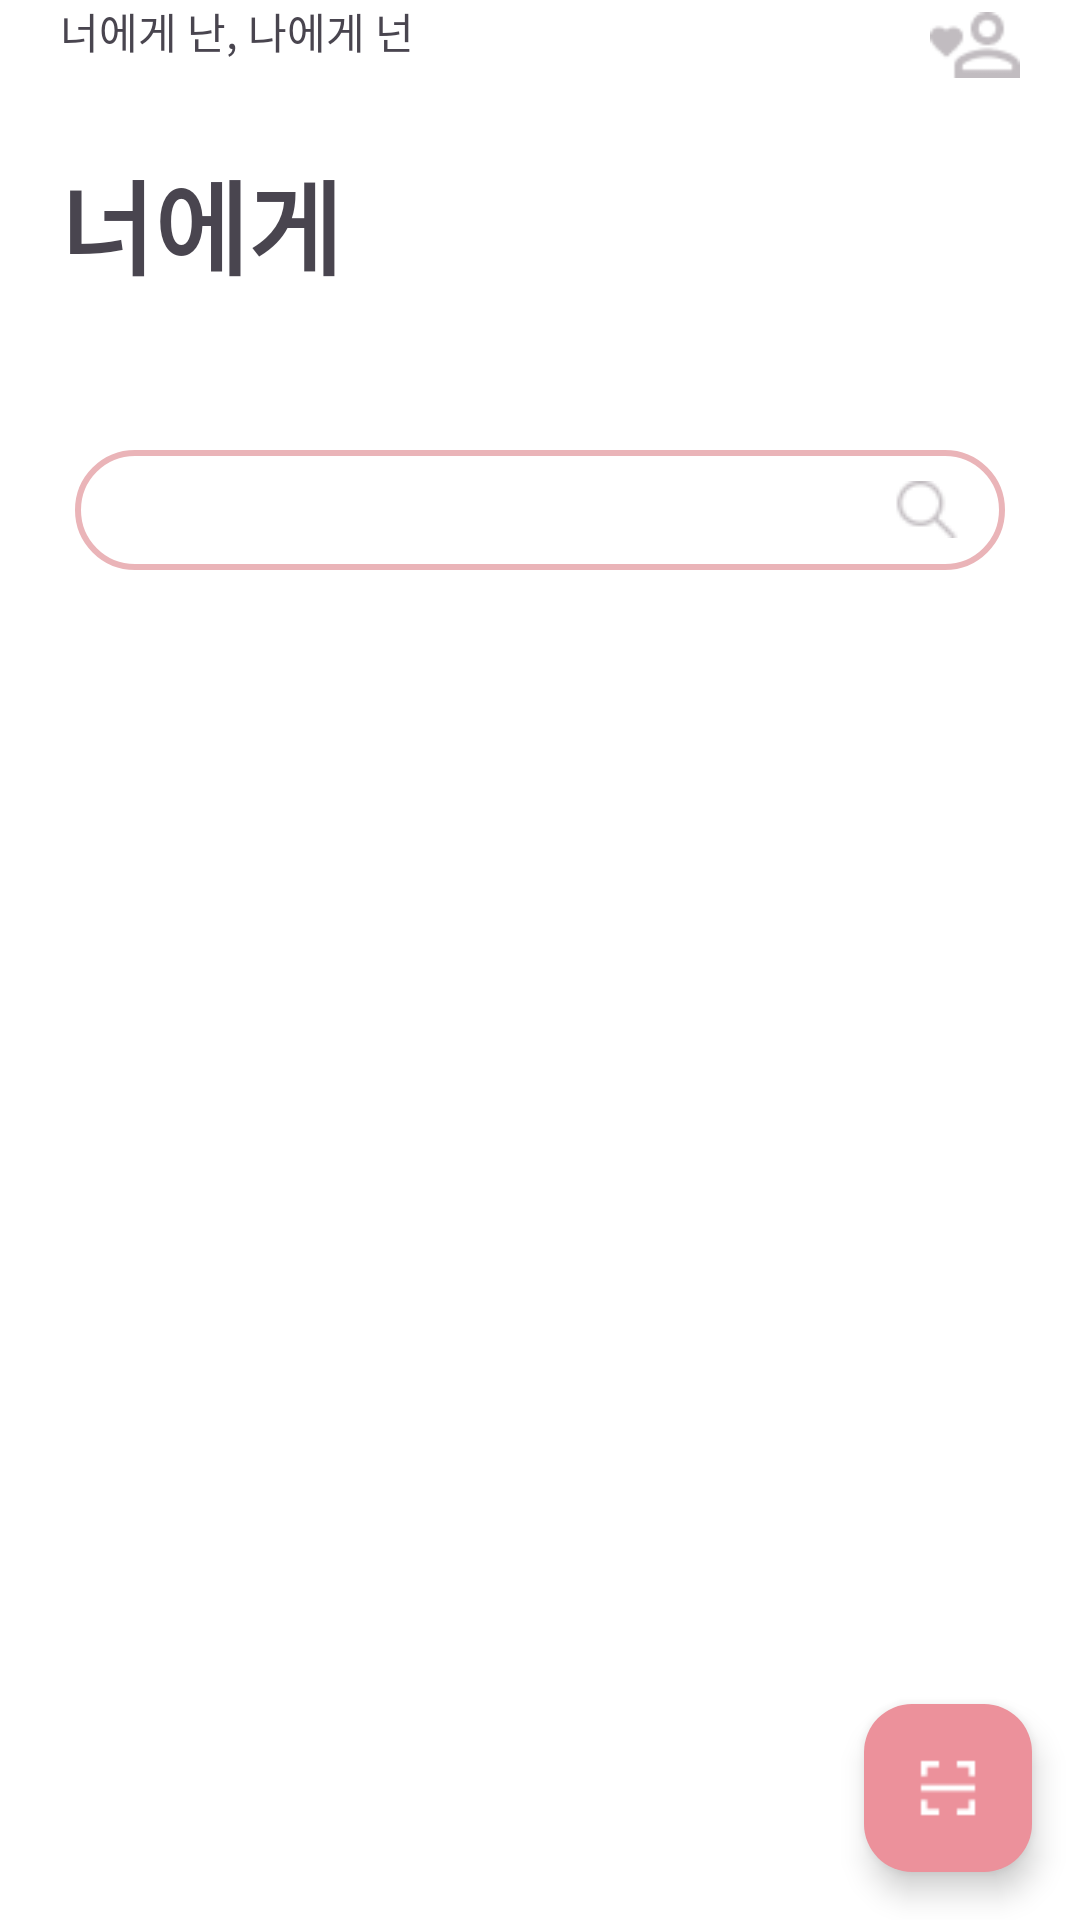

Icons on this 1080px x 1920px Android screen, each with the point to tap as [x,y]:
mypage source: [975,45]
qrcode: [948,1788]
